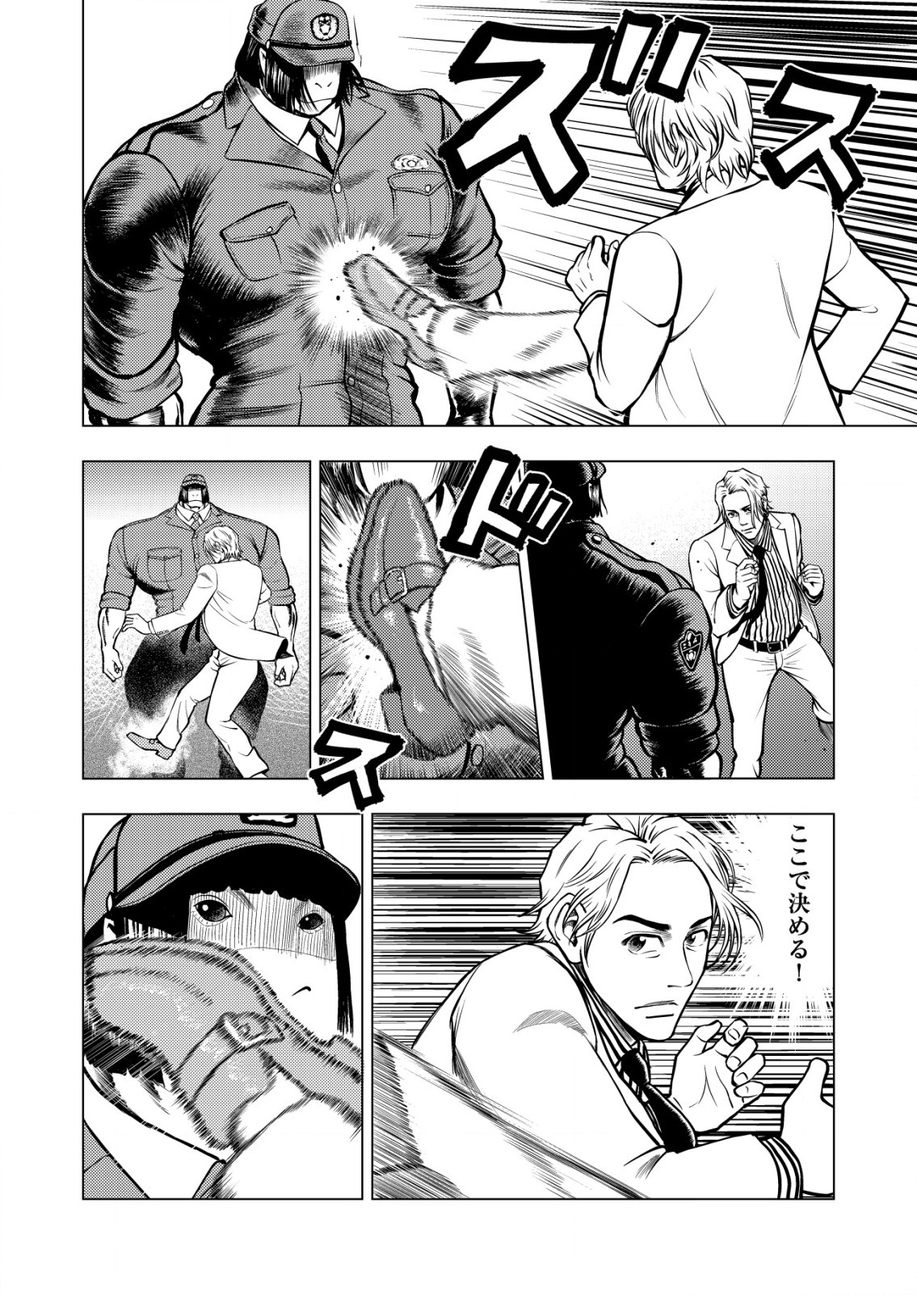bubbles: (738, 814, 833, 1013)
